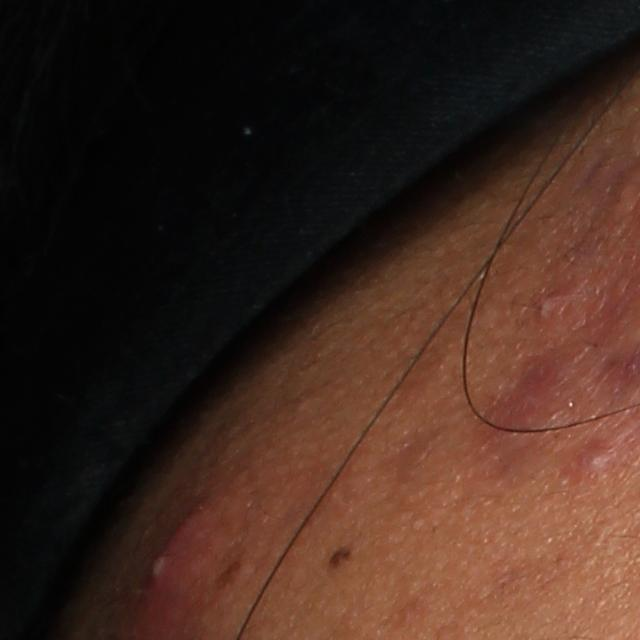nevus: (324, 536, 352, 564)
papule: (575, 434, 619, 483)
